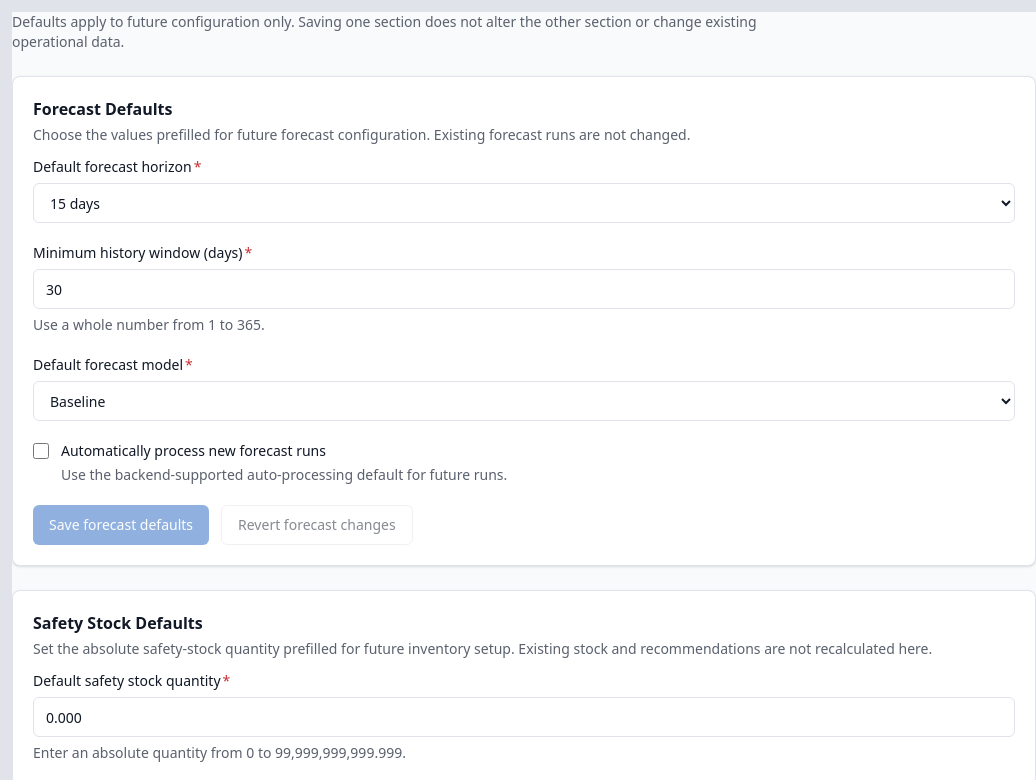
it: SettingsView › saves a dirty Forecast Defaults form with backend-aligned normalized values
expect the heading "Forecast Defaults" is shown: met, box [33, 98, 172, 120]
Select "30 days" in the dropdown labelled "Default forecast horizon*": [524, 203] box [33, 183, 1015, 223]
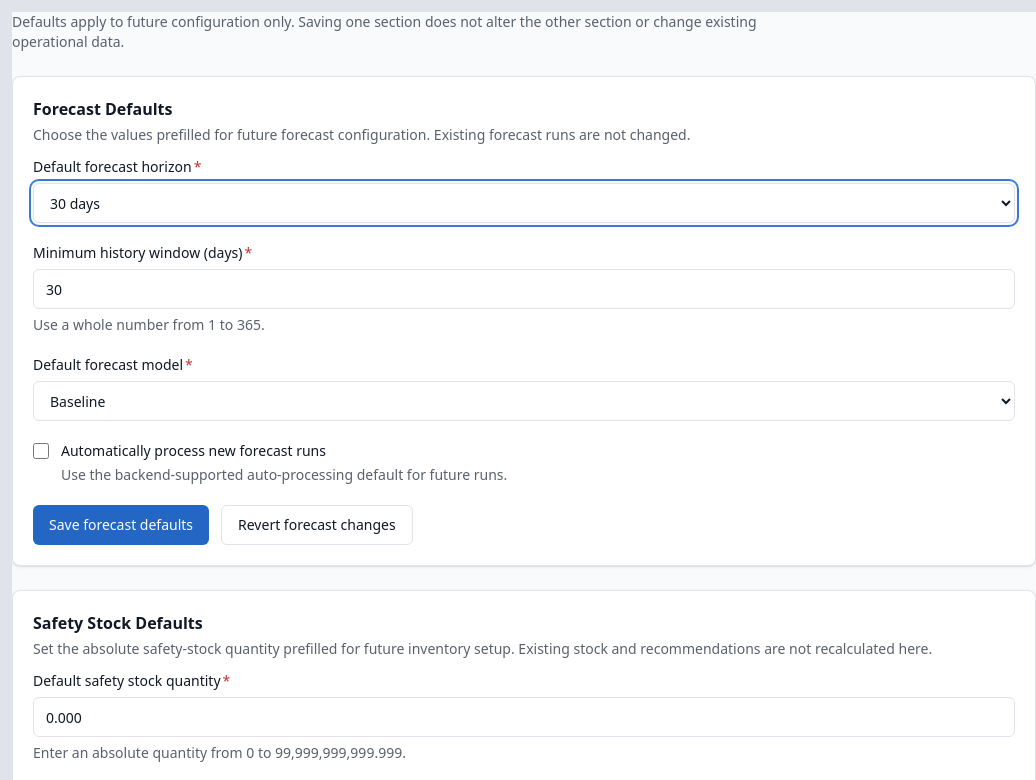
Replace the text in the field labelled "Minimum history window (days)*" with "60": [524, 289] box [33, 269, 1015, 309]
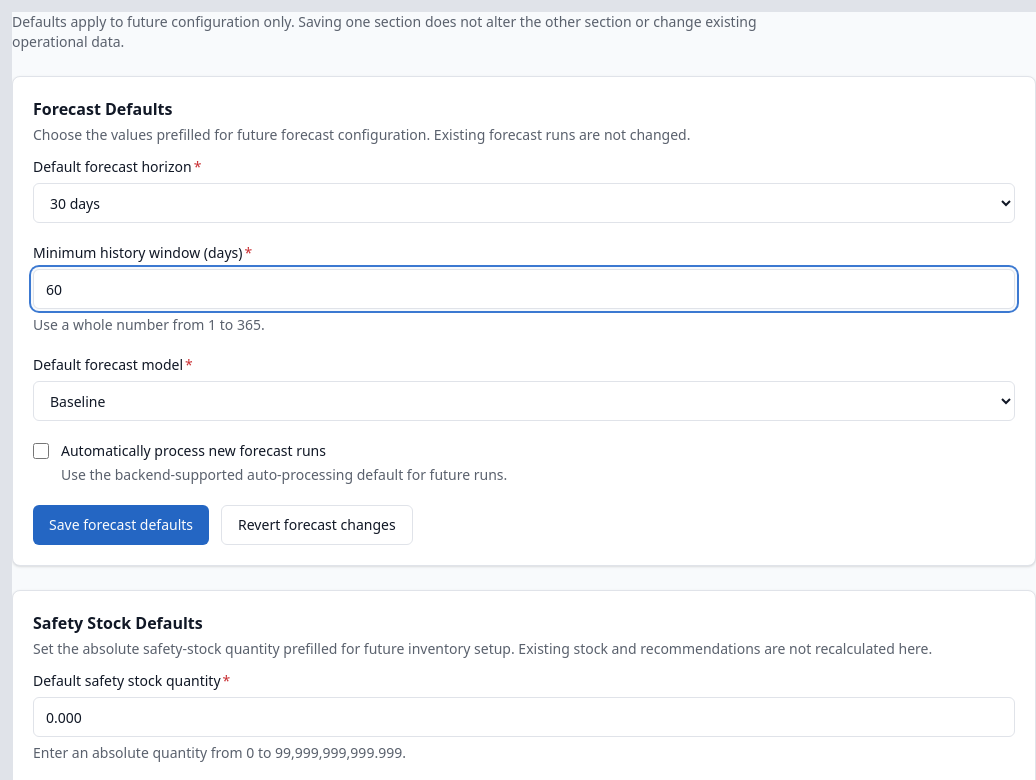
Select "Random forest" in the dropdown labelled "Default forecast model*": [524, 401] box [33, 381, 1015, 421]
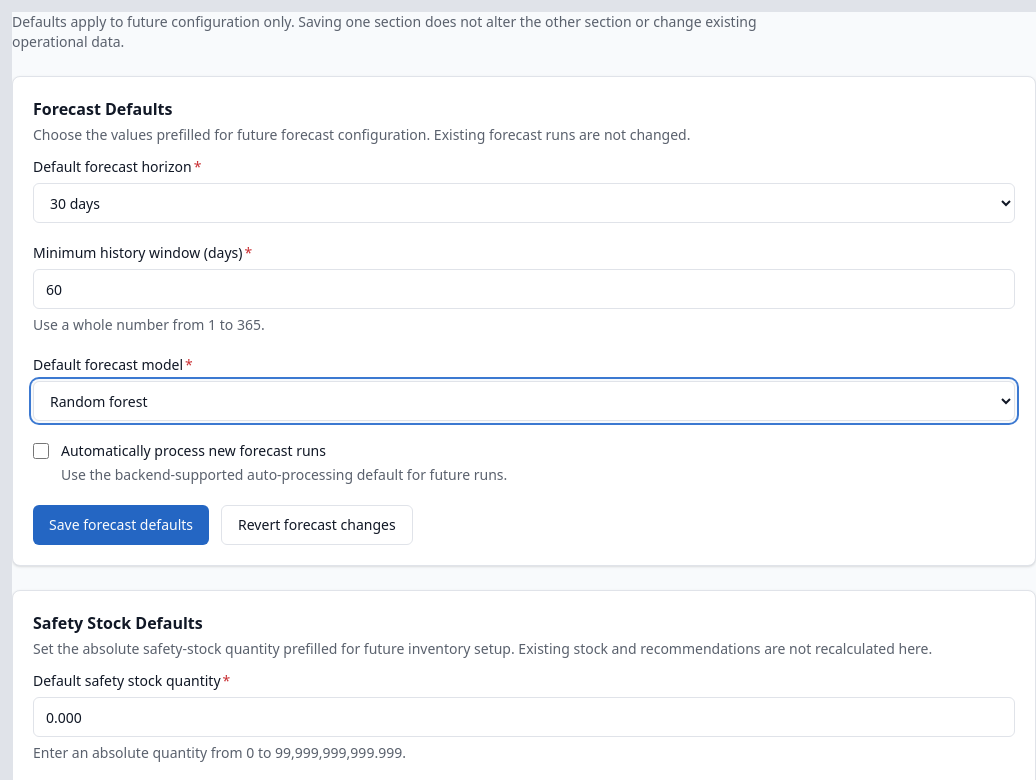
Click the checkbox labelled "Automatically process new forecast runs": [41, 451] box [33, 443, 49, 459]
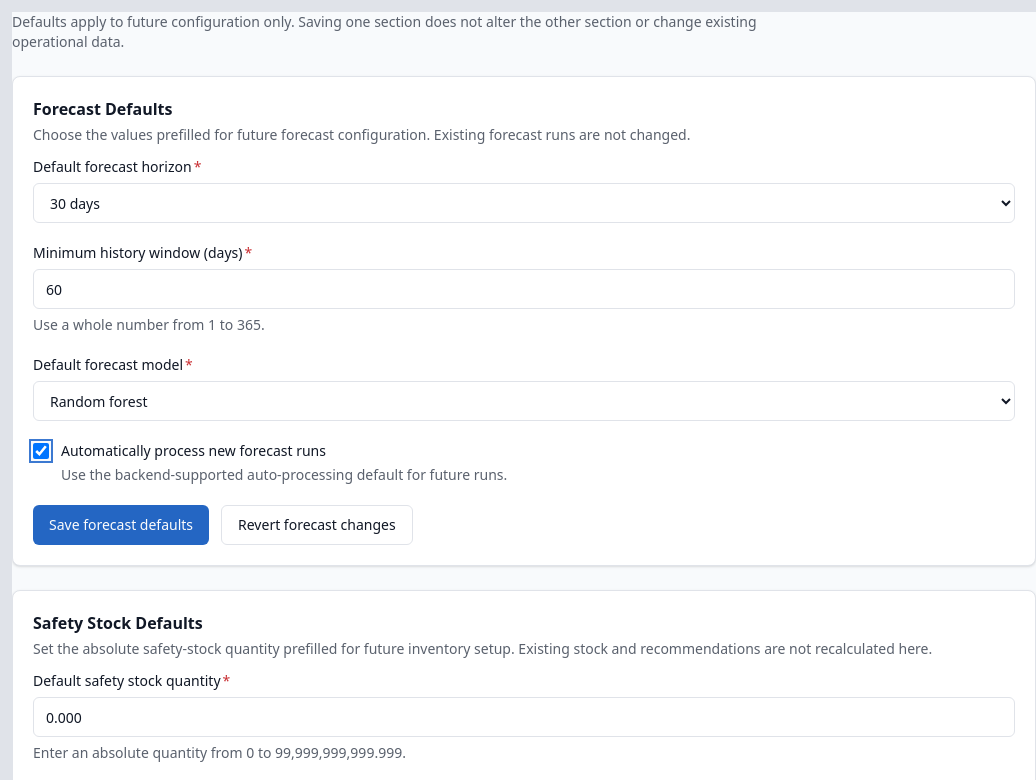
Click the button "Save forecast defaults": [121, 525] box [33, 505, 209, 545]
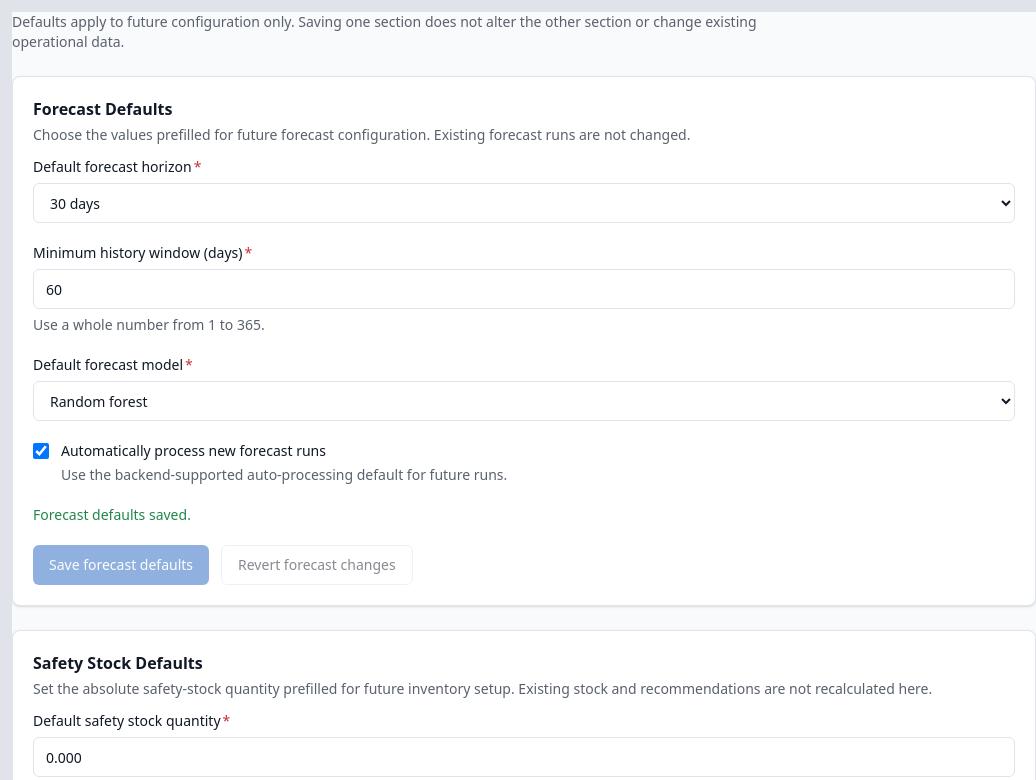
expect the text "Forecast defaults saved." is shown: met, box [33, 505, 191, 524]
expect the button "Save forecast defaults" is disabled: met, box [33, 545, 209, 585]
